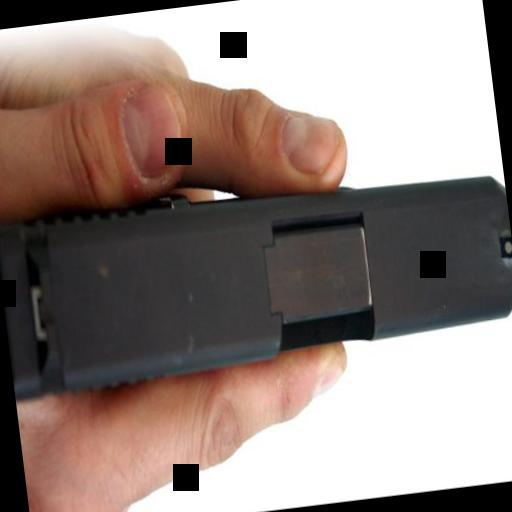Handgun: (0, 156, 512, 392)
